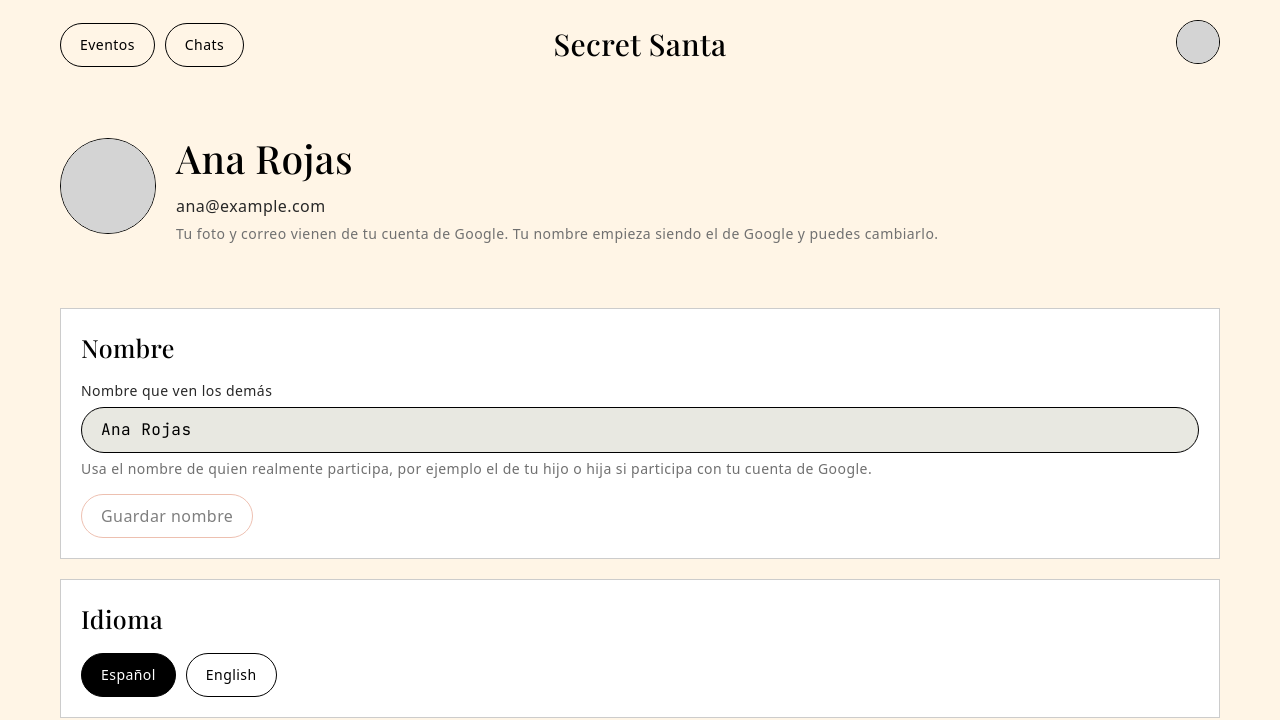
Test: ProfilePage › language switch: PATCHes /me, switches instantly and toasts in the new language
This screenshot has width=1280, height=720.
Check: the heading "Ana Rojas" is shown, box [176,132,353,184]
Click the button "English". click: (231, 674)
box: [186,652,277,696]
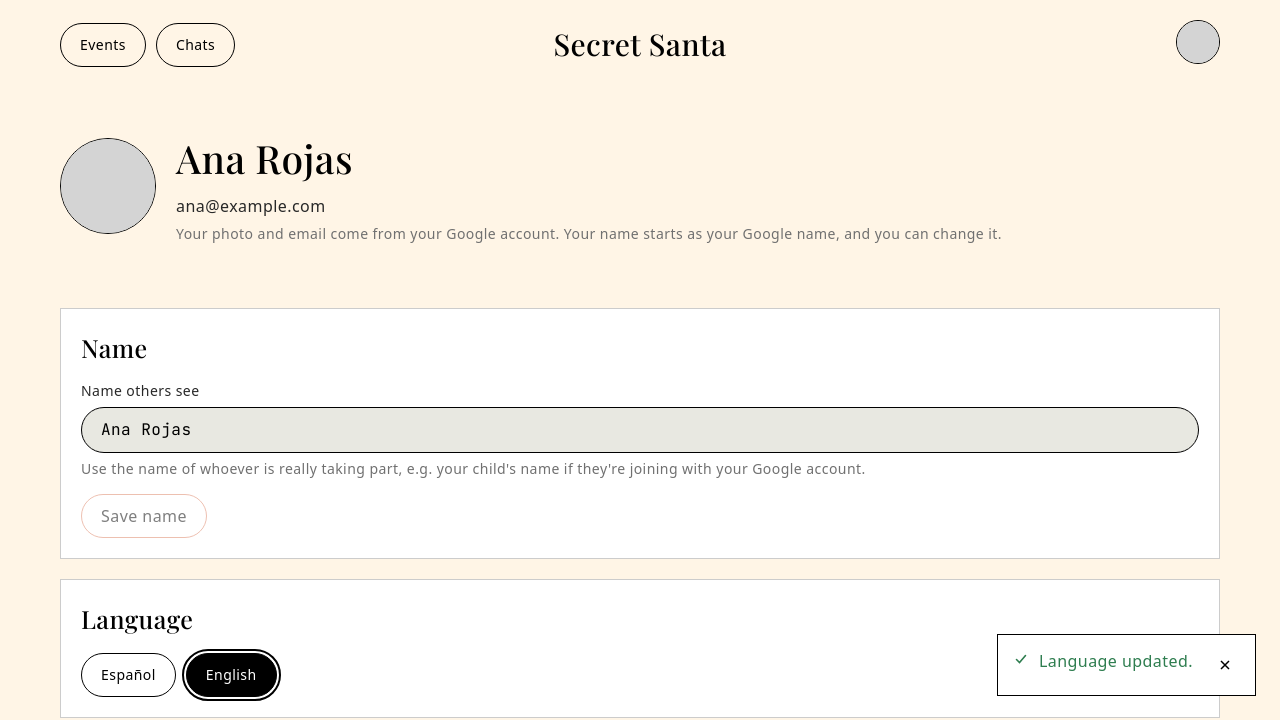
Check: the heading "Language" is shown, box [81,602,193,635]
Check: the text "Language updated." is shown, box [1039,649,1193,673]
